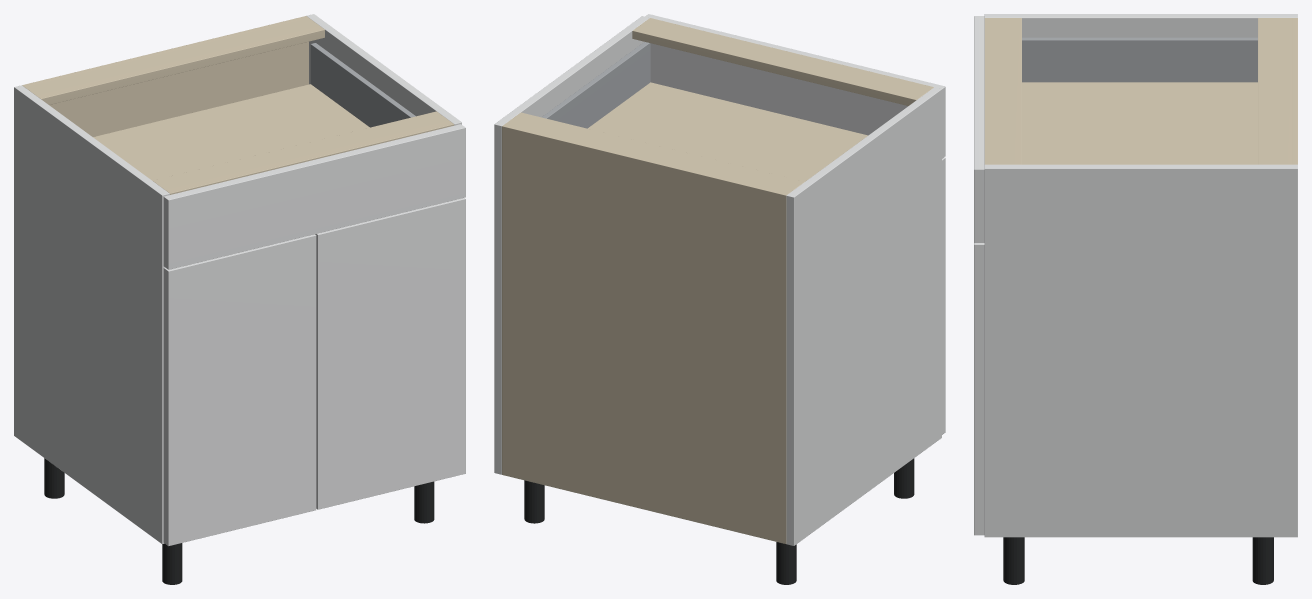
The model's file is oppein-ply-pgw-b27.glb.
3 views of the same model, side by side, from view 1: azimuth 30°, elevation 25°; view 2: azimuth 150°, elevation 25°; view 3: azimuth 270°, elevation 25° (orthographic). The views are drawn at different scales.
Parts seen in each view (by area): view 1: Cabinet side, Door, Door.001, Drawer front, Drawer floor, Cabinet back, Top support rail, Top support rail.001, Drawer side.001, Cabinet side.001, Adjustable foot.001, Adjustable foot.003 (+1 smaller); view 2: Cabinet back, Cabinet side, Drawer floor, Drawer front, Top support rail.001, Cabinet side.001, Top support rail, Drawer side.001, Door, Adjustable foot, Adjustable foot.002, Adjustable foot.001; view 3: Cabinet side.001, Drawer floor, Drawer side, Cabinet side, Top support rail.001, Top support rail, Door.001, Drawer front, Adjustable foot.003, Adjustable foot.002, Cabinet back.
Part boxes in pixels (x1,y1,x2,y2): Cabinet side: (14,85,169,544); Door: (163,234,316,546); Door.001: (315,198,465,509); Drawer front: (163,124,465,269); Drawer floor: (93,84,369,180); Cabinet back: (22,16,308,136); Top support rail: (23,18,324,104); Top support rail.001: (153,111,454,194); Drawer side.001: (310,43,415,127); Cabinet side.001: (306,14,461,125); Adjustable foot.001: (162,543,182,584); Adjustable foot.003: (414,481,434,523); Cabinet back: (502,124,788,543); Cabinet side: (786,87,941,545); Drawer floor: (588,82,867,181); Drawer front: (645,14,945,158); Top support rail.001: (632,18,933,105); Cabinet side.001: (494,16,649,474); Top support rail: (505,112,804,193); Drawer side.001: (541,42,650,128); Door: (942,157,945,434); Adjustable foot: (776,542,796,584); Adjustable foot.002: (524,480,544,523); Adjustable foot.001: (894,458,914,498); Cabinet side.001: (984,164,1297,537); Drawer floor: (1022,82,1257,164); Drawer side: (1022,37,1257,82); Cabinet side: (984,14,1297,37); Top support rail.001: (984,18,1021,164); Top support rail: (1258,18,1291,164); Door.001: (974,243,984,535); Drawer front: (974,16,984,242); Adjustable foot.003: (1003,537,1024,584); Adjustable foot.002: (1252,537,1273,584); Cabinet back: (1292,18,1297,164).
Bounding box in the file's own units: 0.6858 × 0.8763 × 0.6064.
